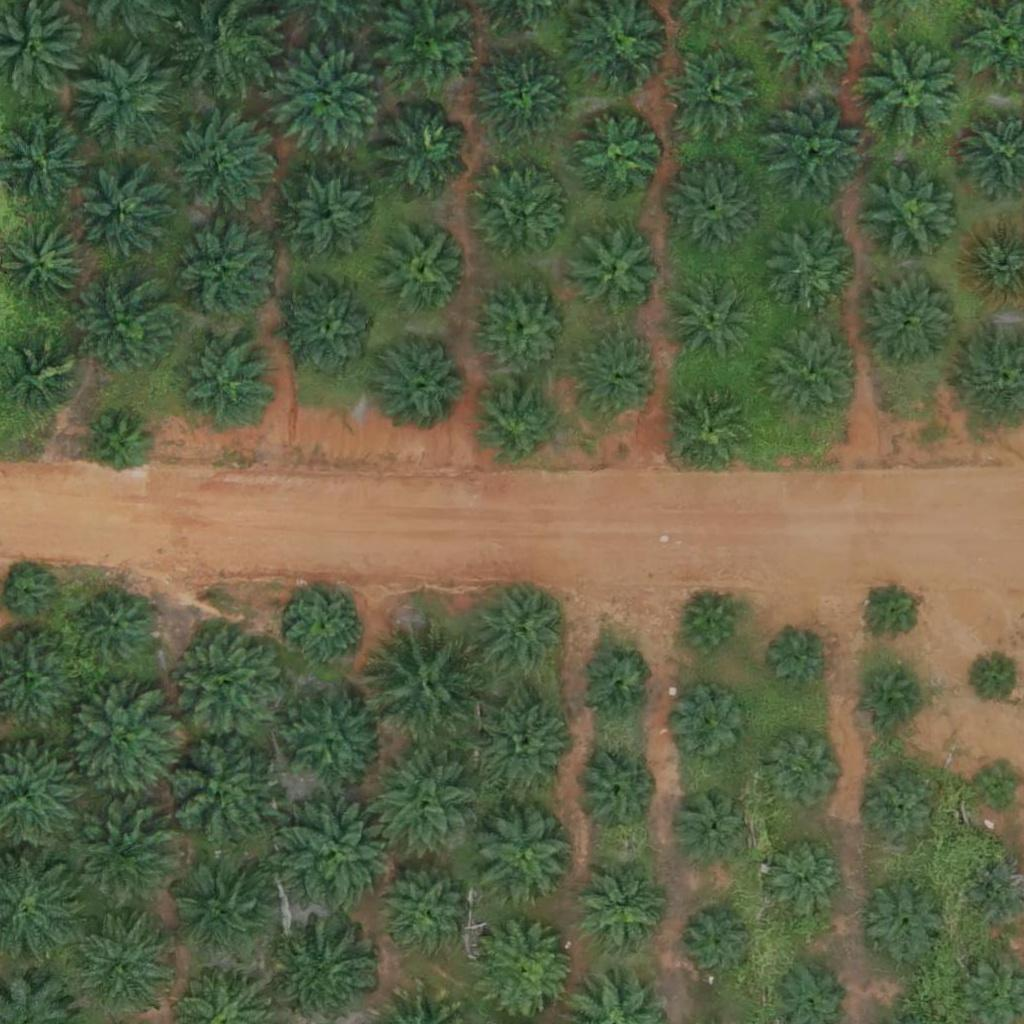Kelapa_Sawit: (167, 618, 292, 744), (155, 729, 280, 855), (275, 793, 400, 919), (366, 619, 491, 745), (362, 742, 487, 868), (269, 50, 382, 164), (65, 686, 177, 799), (66, 798, 178, 911), (864, 45, 964, 146), (763, 105, 863, 206), (665, 44, 765, 145), (663, 160, 763, 261), (474, 44, 574, 145), (73, 49, 173, 150), (77, 277, 177, 378), (171, 222, 271, 323), (176, 332, 276, 433), (760, 318, 860, 419), (862, 166, 962, 267), (860, 270, 960, 371), (175, 865, 275, 966), (283, 921, 383, 1022), (371, 100, 471, 200), (171, 114, 271, 214), (282, 281, 382, 381), (374, 332, 474, 432), (476, 278, 576, 378), (281, 690, 381, 790), (471, 582, 571, 682), (475, 698, 575, 798), (475, 805, 575, 905), (477, 922, 577, 1022), (862, 876, 950, 964), (573, 115, 661, 203), (279, 173, 367, 261), (573, 228, 661, 316), (575, 334, 663, 422), (671, 274, 759, 362), (668, 384, 756, 472), (78, 921, 166, 1009), (577, 868, 665, 956), (572, 747, 659, 835), (479, 174, 566, 262), (80, 175, 167, 263), (382, 224, 469, 312), (476, 381, 563, 469), (775, 221, 862, 309), (383, 872, 470, 960), (766, 838, 841, 914), (676, 786, 751, 862), (681, 905, 756, 981), (288, 587, 363, 663), (576, 647, 651, 723), (674, 689, 749, 764), (767, 731, 842, 806), (865, 775, 940, 850), (7, 341, 82, 416), (79, 590, 154, 665), (86, 414, 149, 477), (859, 579, 922, 642), (860, 668, 923, 731), (679, 595, 741, 658), (769, 628, 831, 691), (973, 760, 1023, 811), (4, 569, 54, 619)
